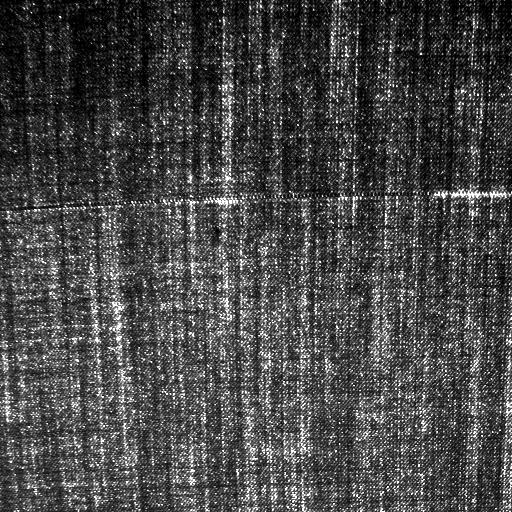fabric_broken_pick: (24, 181, 512, 207)
